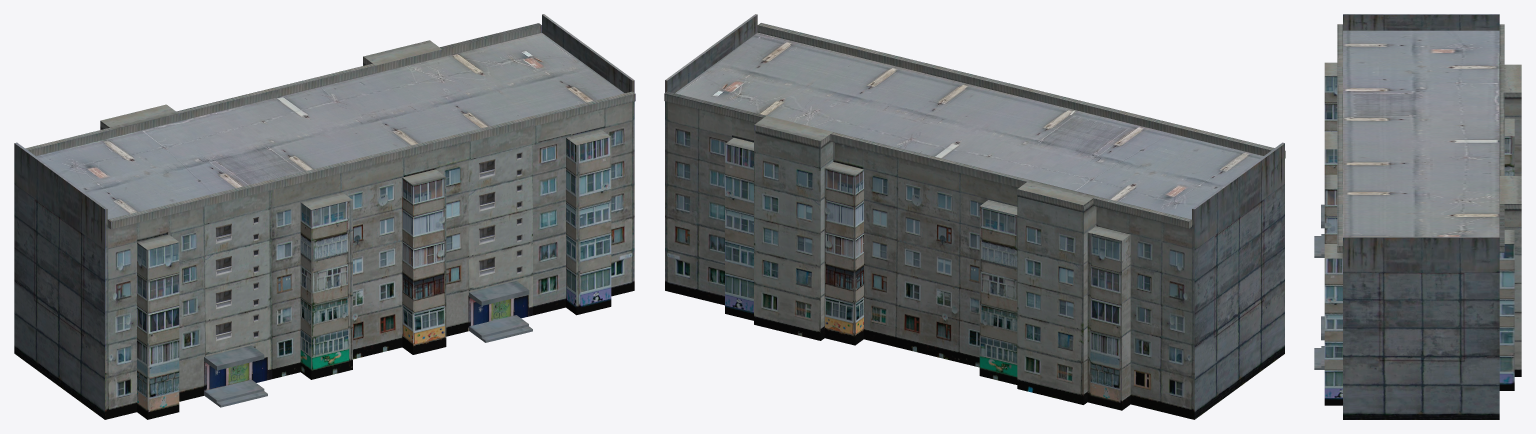
The model's file is house_1.glb.
3 views of the same model, side by side, from view 1: azimuth 30°, elevation 25°; view 2: azimuth 150°, elevation 25°; view 3: azimuth 270°, elevation 25° (orthographic). The views are drawn at different scales.
Visible parts, largest first — view 1: Cube.002, Cube.003; view 2: Cube.002; view 3: Cube.002, Cube.003.
Boxes of the visible parts, x1=… form: Cube.002: x1=14, y1=14, x2=635, y2=419; Cube.003: x1=204, y1=281, x2=532, y2=407; Cube.002: x1=664, y1=14, x2=1285, y2=419; Cube.002: x1=1324, y1=14, x2=1521, y2=419; Cube.003: x1=1314, y1=204, x2=1324, y2=369.
Size of the model in its own units: 48.62 by 18.47 by 19.02.
Materials: 1 (1 with a texture image).
